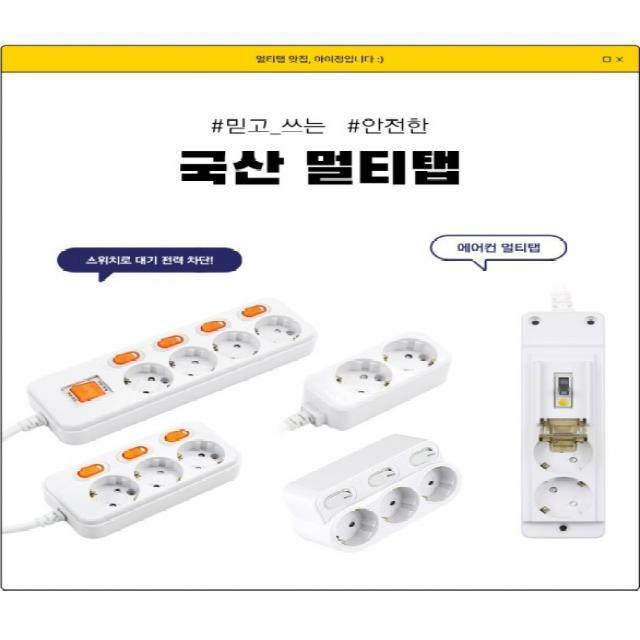typeb: (33, 275, 328, 411), (524, 306, 626, 556), (46, 420, 254, 530), (309, 440, 477, 555), (329, 330, 469, 425)
